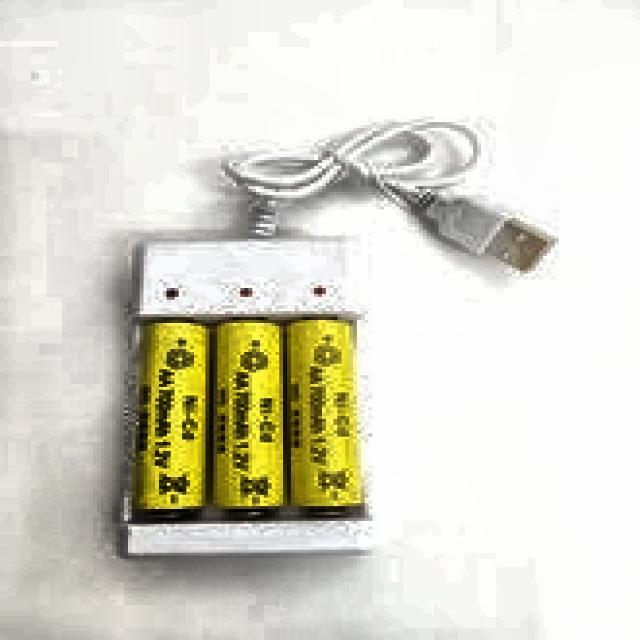Non-Valuable Waste - Batteries: (133, 320, 210, 511), (287, 319, 363, 507), (213, 319, 287, 509)
